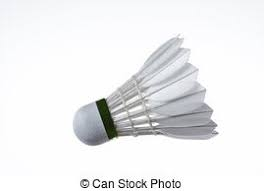shuttle: (72, 33, 229, 147)
